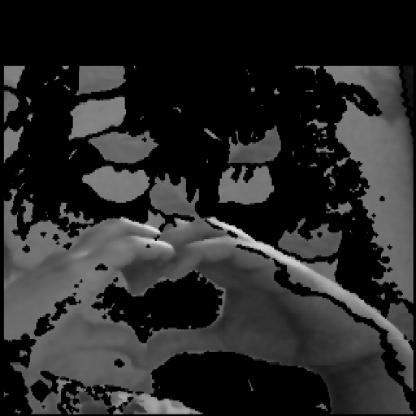heart: (22, 215, 372, 385)
